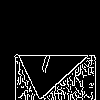Y: (25, 25, 67, 80)
